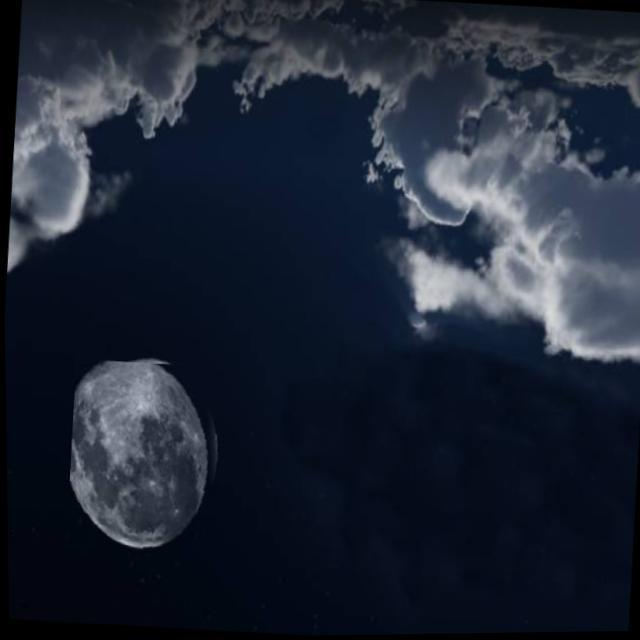moon: (62, 357, 232, 563)
